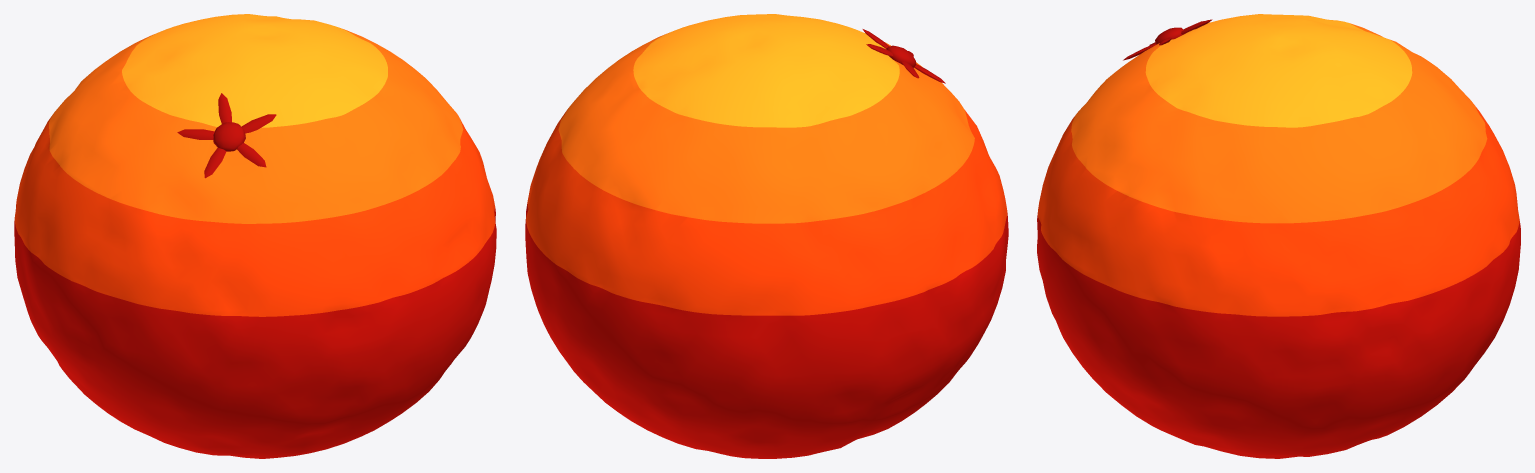
The model's file is fruit_orange.glb.
3 views of the same model, side by side, from view 1: azimuth 30°, elevation 25°; view 2: azimuth 150°, elevation 25°; view 3: azimuth 270°, elevation 25° (orthographic).
Parts seen in each view (by area): view 1: fruit_orange; view 2: fruit_orange; view 3: fruit_orange.
Boxes of the visible parts, bbox=[...] form: fruit_orange: bbox=[14, 14, 496, 458]; fruit_orange: bbox=[525, 14, 1008, 458]; fruit_orange: bbox=[1037, 14, 1520, 458].
Bounding box in the file's own units: 11.99 × 10.79 × 11.97.
